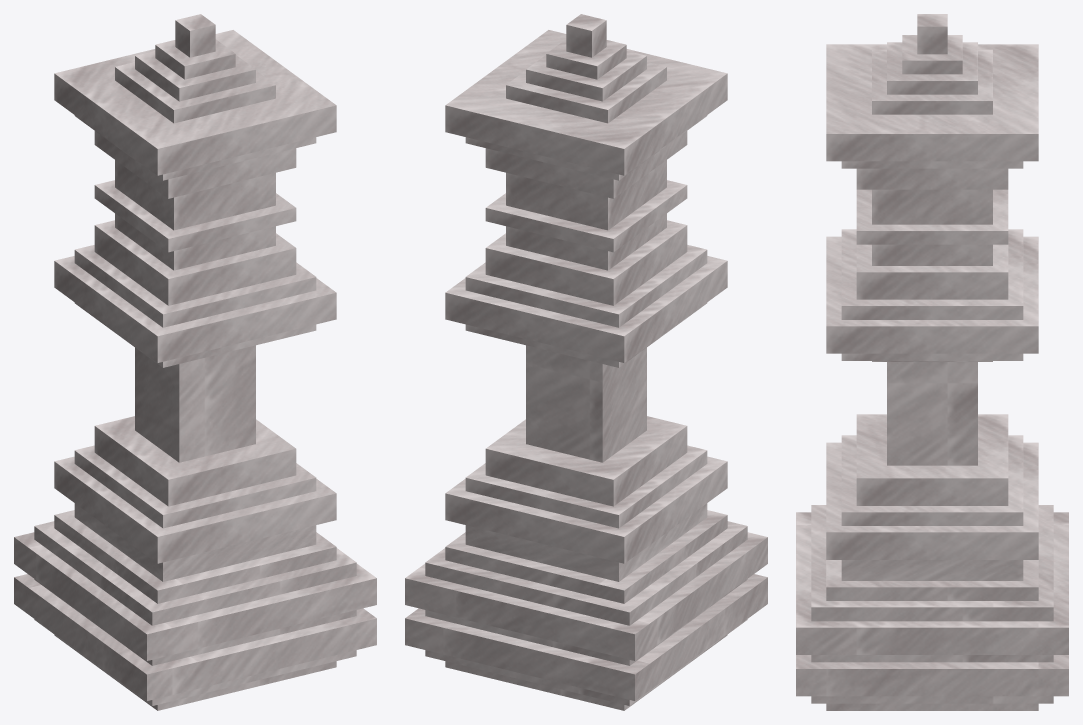
Rendered from Dame.fbx.
The picture shows the model from 3 angles, left to right: view 1: azimuth 30°, elevation 25°; view 2: azimuth 150°, elevation 25°; view 3: azimuth 270°, elevation 25°; orthographic projection. The views are drawn at different scales.
Visible parts, largest first — view 1: cube_22, cube_4, cube_2, cube_11, cube_14, cube_8, cube_10, cube_5, cube_16, cube_6, cube_9, cube_15 (+14 smaller); view 2: cube_22, cube_4, cube_2, cube_11, cube_14, cube_8, cube_10, cube_5, cube_16, cube_6, cube_9, cube_15 (+14 smaller); view 3: cube_22, cube_4, cube_8, cube_14, cube_2, cube_11, cube_10, cube_5, cube_15, cube_9, cube_16, cube_6 (+14 smaller).
Boxes of the visible parts, x1,y1,x2,y2 form: cube_22: [54, 30, 336, 175]; cube_4: [14, 532, 376, 660]; cube_2: [14, 574, 376, 700]; cube_11: [135, 345, 255, 462]; cube_14: [54, 256, 336, 362]; cube_8: [54, 456, 336, 563]; cube_10: [94, 416, 296, 506]; cube_5: [34, 521, 356, 625]; cube_16: [94, 220, 296, 305]; cube_6: [54, 510, 336, 603]; cube_9: [74, 445, 316, 528]; cube_15: [74, 245, 316, 327]; cube_22: [445, 30, 727, 175]; cube_4: [405, 532, 767, 660]; cube_2: [405, 574, 767, 700]; cube_11: [526, 345, 646, 462]; cube_14: [445, 256, 727, 362]; cube_8: [445, 456, 727, 563]; cube_10: [485, 416, 687, 506]; cube_5: [425, 521, 747, 625]; cube_16: [485, 220, 687, 305]; cube_6: [445, 510, 727, 603]; cube_9: [465, 445, 707, 528]; cube_15: [465, 245, 707, 327]; cube_22: [826, 44, 1038, 161]; cube_4: [796, 512, 1068, 654]; cube_8: [826, 442, 1038, 559]; cube_14: [826, 236, 1038, 353]; cube_2: [796, 655, 1068, 696]; cube_11: [887, 362, 977, 465]; cube_10: [856, 414, 1008, 505]; cube_5: [811, 505, 1053, 621]; cube_15: [841, 229, 1023, 319]; cube_9: [841, 435, 1023, 525]; cube_16: [856, 244, 1008, 299]; cube_6: [826, 560, 1038, 600].
Bounding box in the file's own units: 112 × 294 × 112.
1 material, 1 textured.
